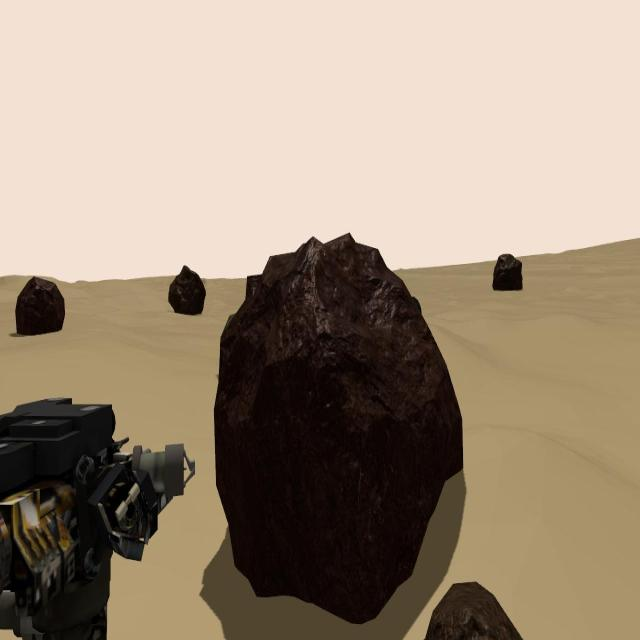rock: (214, 232, 464, 626), (424, 580, 524, 640), (16, 274, 65, 336), (169, 264, 206, 316), (492, 254, 522, 292)
